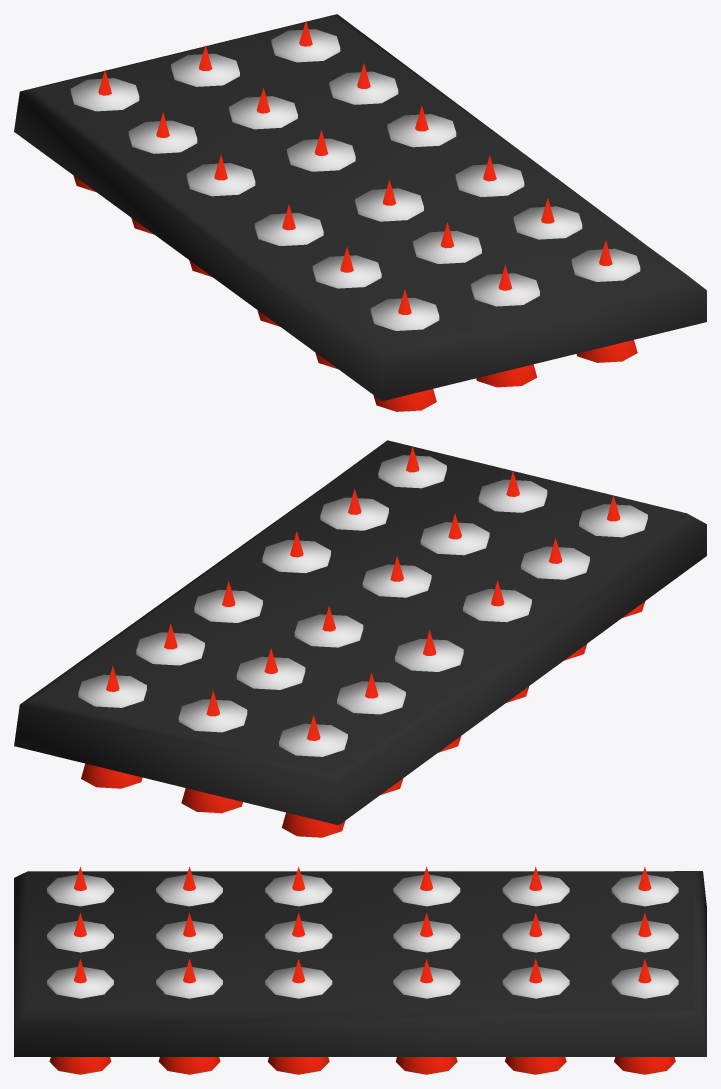
The model's file is SpikeWide.fbx.
The picture shows the model from 3 angles, top to bottom: view 1: azimuth 30°, elevation 25°; view 2: azimuth 150°, elevation 25°; view 3: azimuth 270°, elevation 25°; orthographic projection. The views are drawn at different scales.
Visible parts, largest first — view 1: spike-obstacle.001, spike-obstacle.003; view 2: spike-obstacle.001, spike-obstacle.003; view 3: spike-obstacle.001, spike-obstacle.003.
Part boxes in pixels (<box>): spike-obstacle.001: <box>14,14,706,401</box>; spike-obstacle.003: <box>73,21,637,411</box>; spike-obstacle.001: <box>14,440,706,825</box>; spike-obstacle.003: <box>81,446,644,837</box>; spike-obstacle.001: <box>14,871,706,1056</box>; spike-obstacle.003: <box>49,866,675,1074</box>.
Bounding box in the file's own units: 236 × 76.01 × 463.
